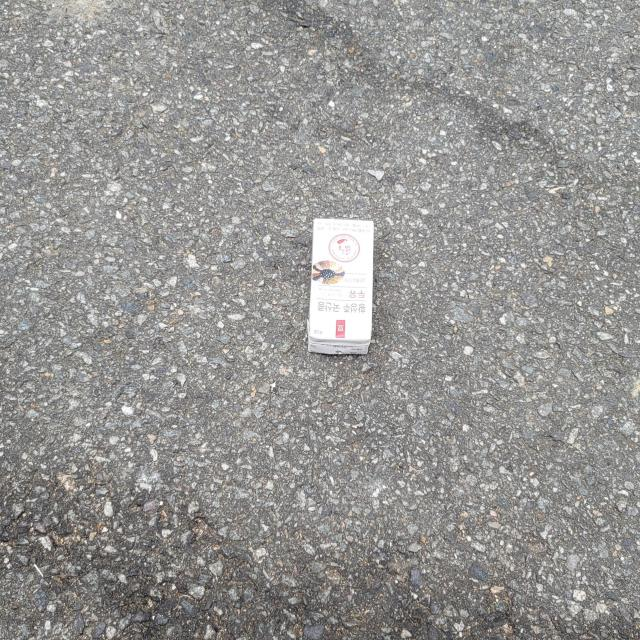paperpack: (307, 218, 374, 355)
